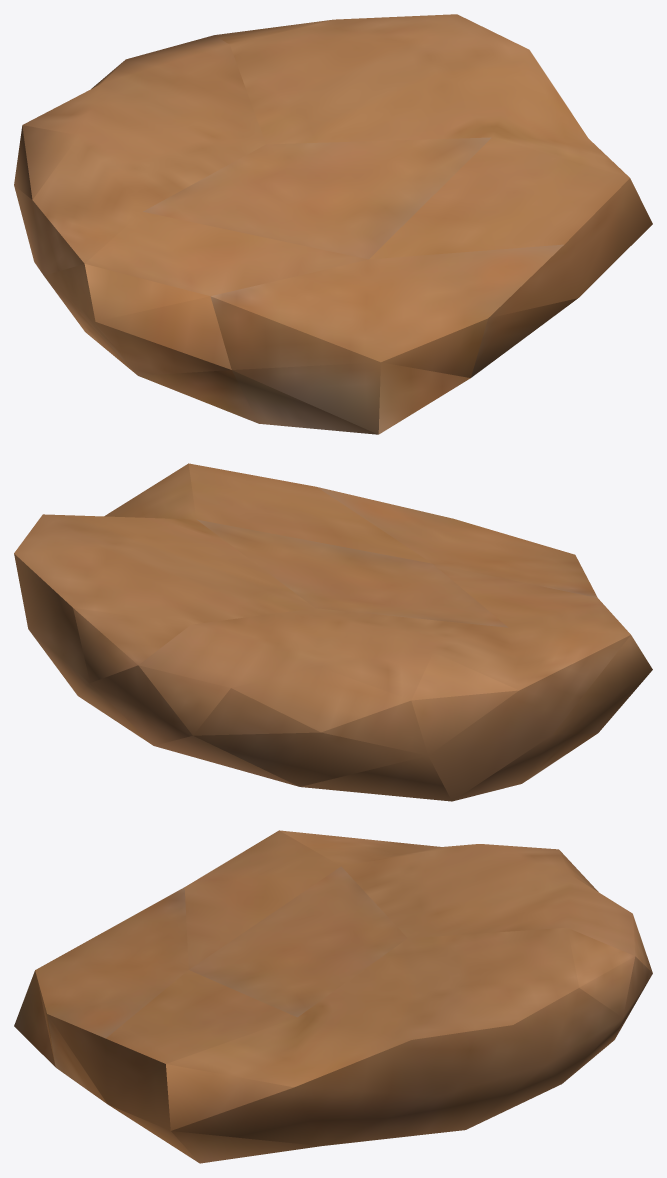
The model's file is terron_4.glb.
3 views of the same model, one above another, from view 1: azimuth 30°, elevation 25°; view 2: azimuth 150°, elevation 25°; view 3: azimuth 270°, elevation 25° (orthographic). The views are drawn at different scales.
Parts seen in each view (by area): view 1: terron_4_malla; view 2: terron_4_malla; view 3: terron_4_malla.
Part boxes in pixels (bbox=[...]): terron_4_malla: bbox=[14, 14, 652, 434]; terron_4_malla: bbox=[14, 463, 652, 801]; terron_4_malla: bbox=[14, 830, 652, 1163].
Bounding box in the file's own units: 0.1954 × 0.071 × 0.2061.
Materials: 1 (1 with a texture image).
